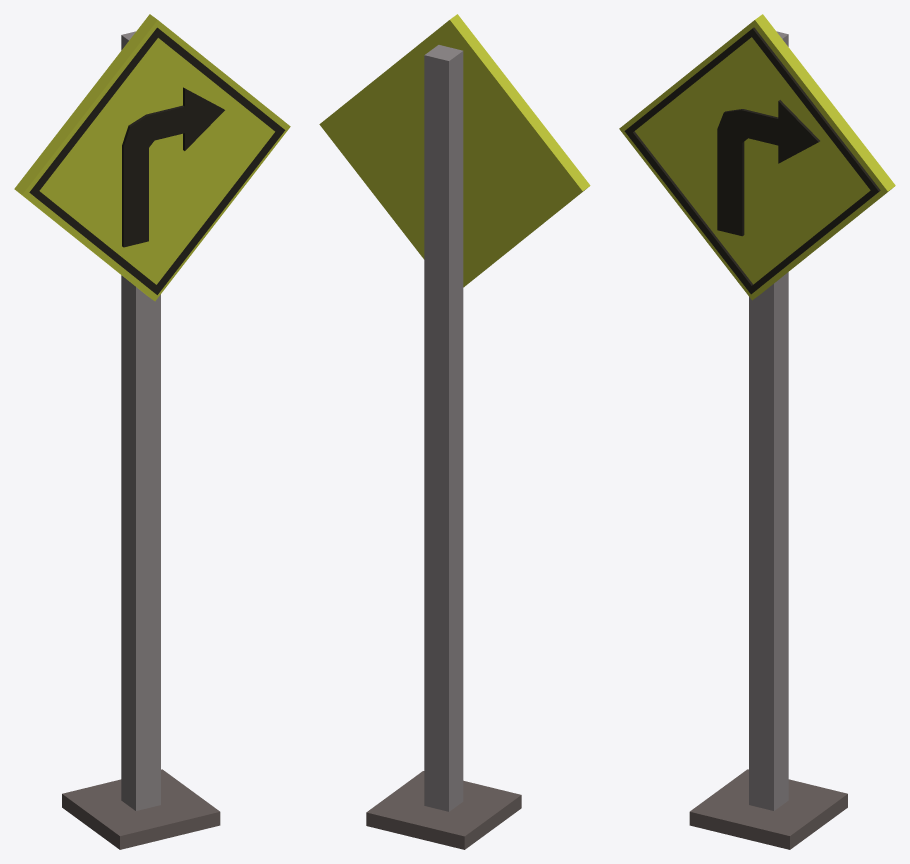
The model's file is RoadSign(3).fbx.
3 views of the same model, side by side, from view 1: azimuth 30°, elevation 25°; view 2: azimuth 150°, elevation 25°; view 3: azimuth 330°, elevation 25° (orthographic). The views are drawn at different scales.
Parts seen in each view (by area): view 1: RoadSign(3); view 2: RoadSign(3); view 3: RoadSign(3).
Part boxes in pixels (x1,y1,x2,y2): RoadSign(3): (14, 14, 290, 849); RoadSign(3): (319, 14, 590, 849); RoadSign(3): (619, 14, 895, 849).
Bounding box in the file's own units: 64.93 × 187 × 24.26.
